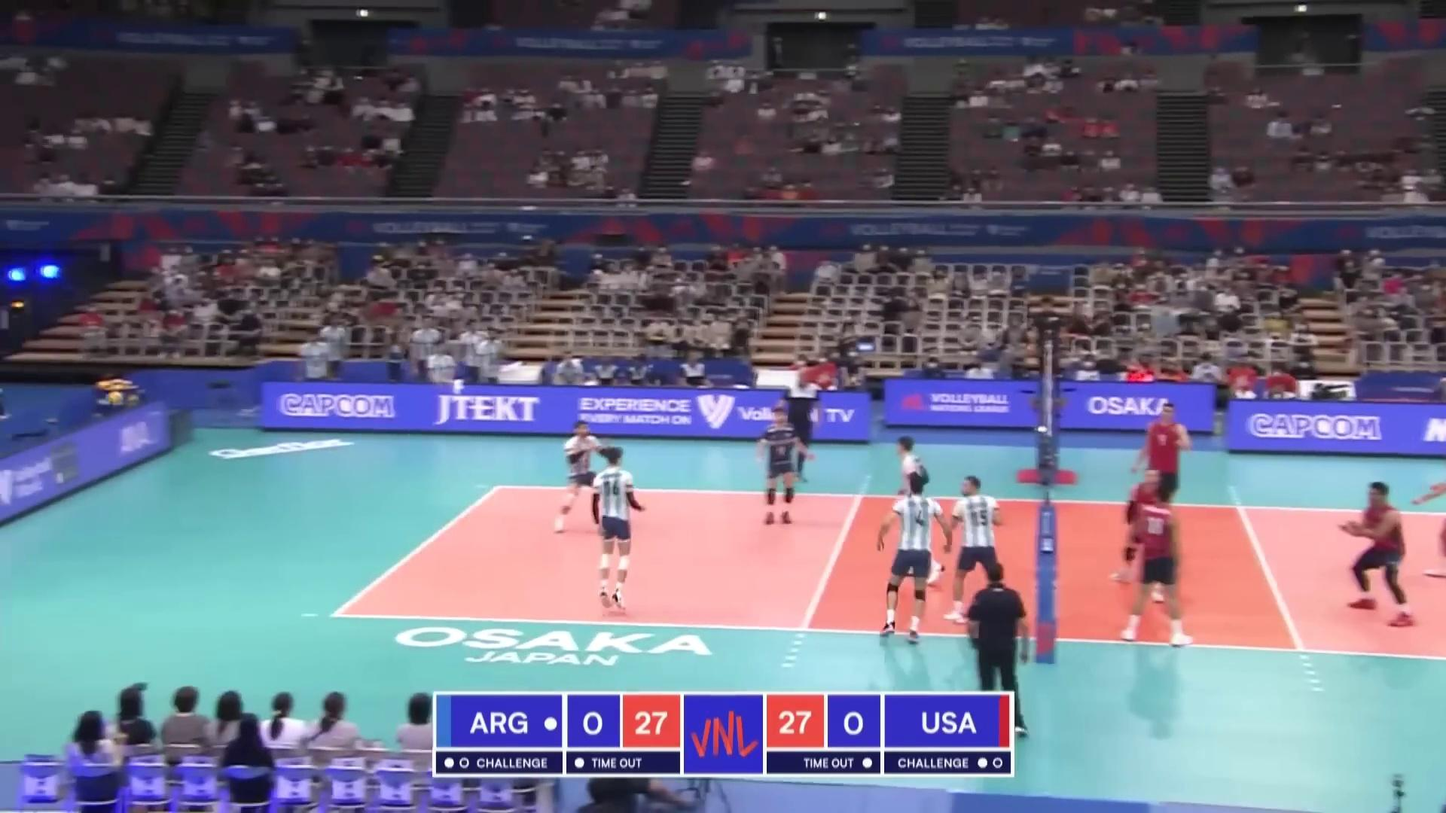player: (1119, 481, 1192, 647), (876, 479, 948, 644), (1339, 482, 1419, 628), (943, 476, 1011, 624), (591, 447, 647, 614), (1110, 470, 1167, 602), (896, 435, 945, 586), (1136, 403, 1189, 535), (552, 421, 610, 533), (757, 409, 807, 527)
refree: (952, 566, 1030, 744), (1034, 297, 1066, 394)
